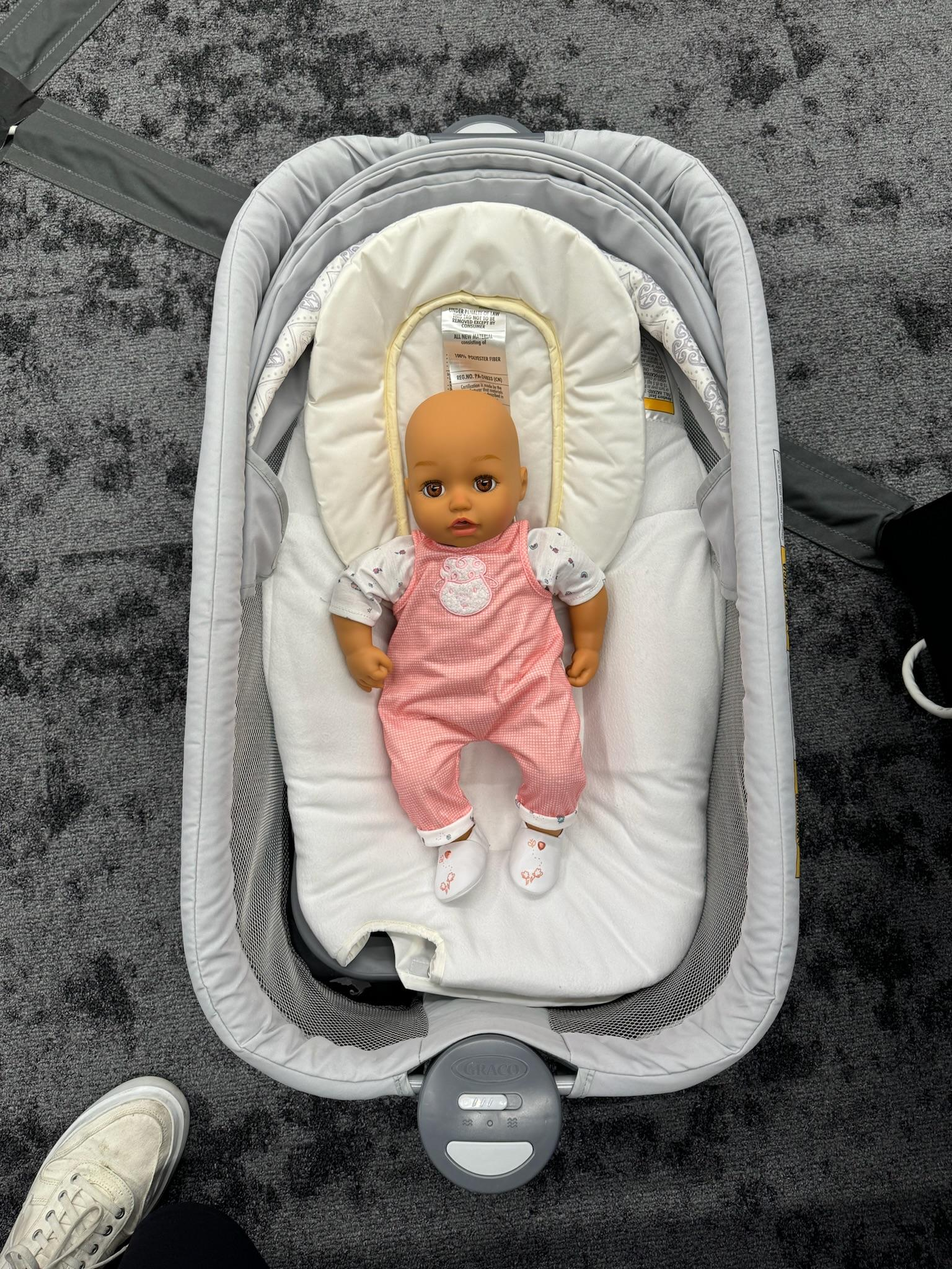baby: (329, 384, 617, 907)
